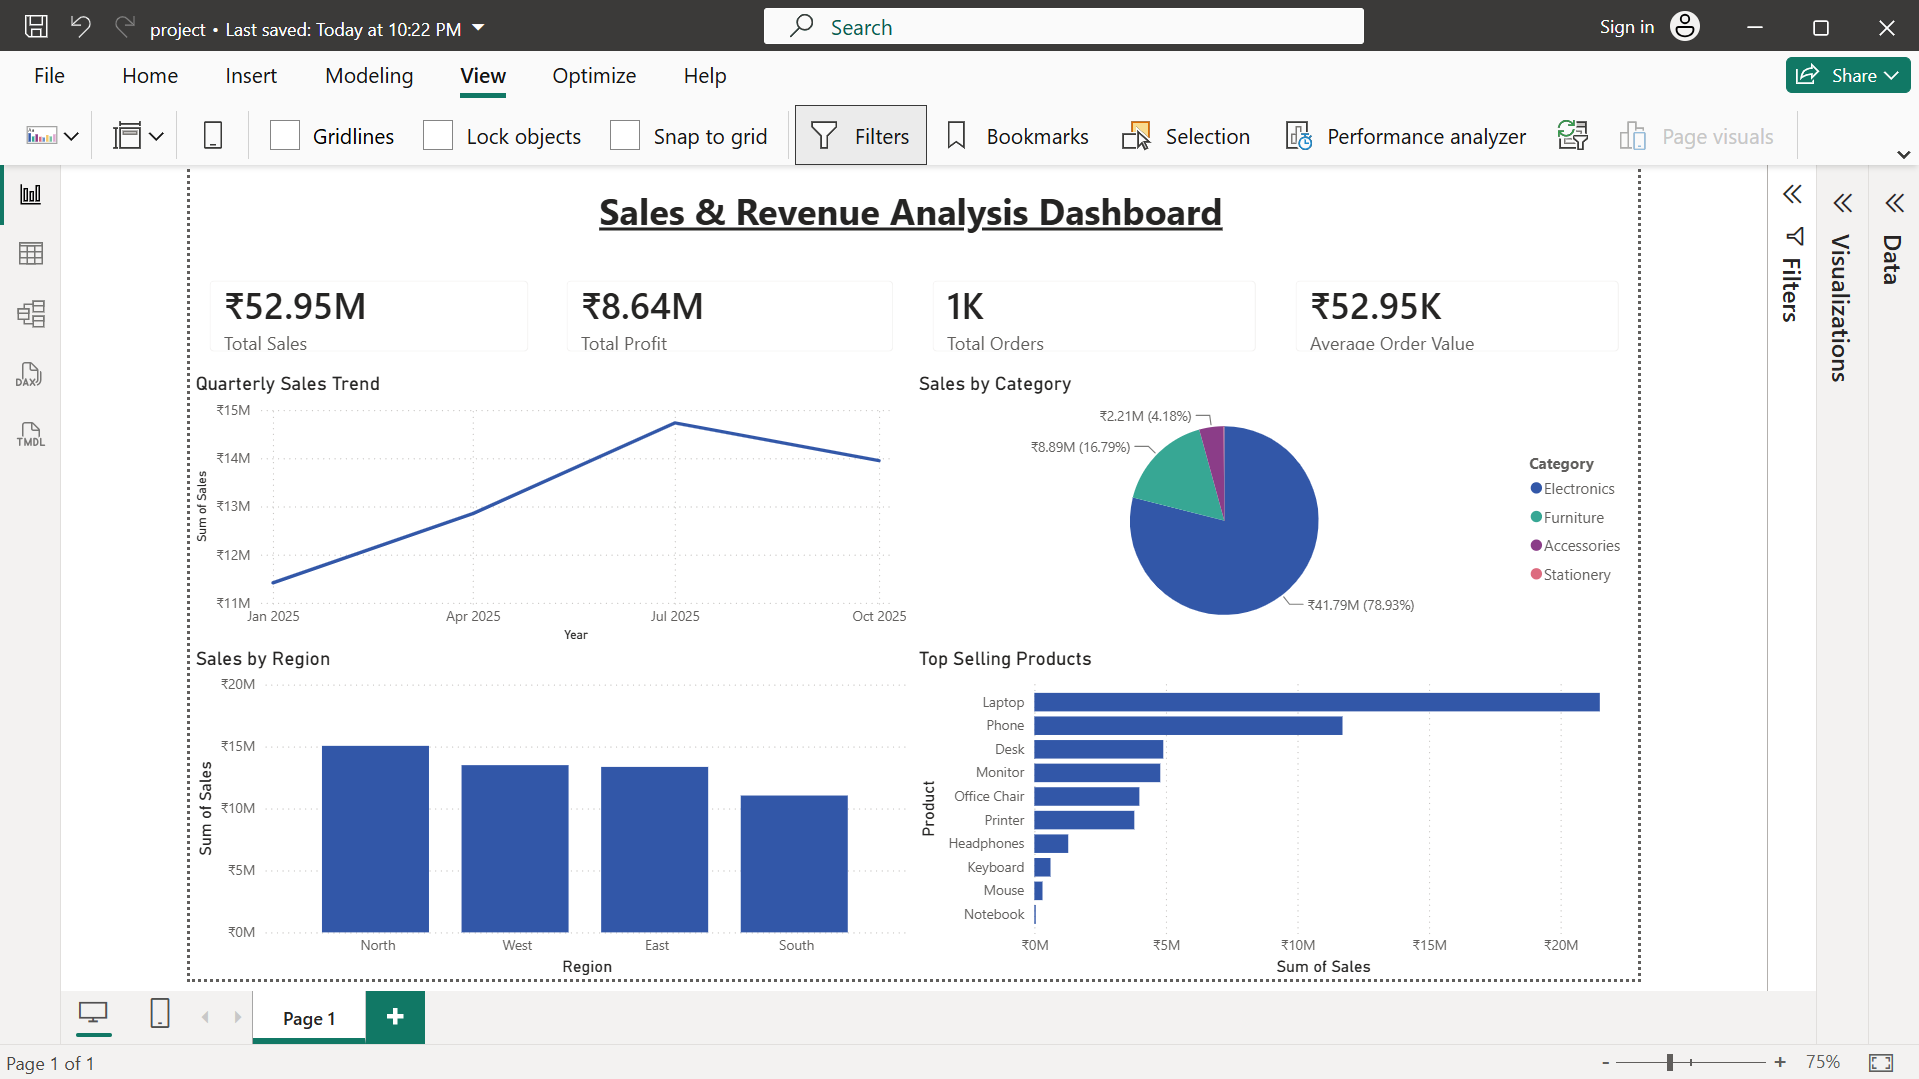

What the dashboard file says about the page in this screenshot:
{"tool":"powerbi","page":{"name":"Page 1","canvas":[1280,720],"ordinal":0},"visuals":[{"type":"cardVisual","fields":{"Data":["Sum(SalesData.Sales)"]},"box":[0,84.7,316.2,97.9],"z":0},{"type":"cardVisual","fields":{"Data":["Sum(SalesData.Profit)"]},"box":[316.2,84.7,323.8,97.9],"z":1000},{"type":"cardVisual","fields":{"Data":["CountNonNull(SalesData.Order ID)"]},"box":[640,84.7,320,97.9],"z":2000},{"type":"cardVisual","fields":{"Data":["SalesData.Average Order Value"]},"box":[960,84.7,320,97.9],"z":3000},{"type":"lineChart","title":"Quarterly Sales Trend","fields":{"Y":["Sum(SalesData.Sales)"],"Category":["SalesData.Order Date.Variation.Date Hierarchy.Year","SalesData.Order Date.Variation.Date Hierarchy.Quarter","SalesData.Order Date.Variation.Date Hierarchy.Month","SalesData.Order Date.Variation.Date Hierarchy.Day"]},"box":[0,182.6,638.1,242.8],"z":4000},{"type":"clusteredColumnChart","title":"Sales by Region","fields":{"Category":["SalesData.Region"],"Y":["Sum(SalesData.Sales)"]},"box":[0,425.4,640,295.5],"z":5000},{"type":"pieChart","title":"Sales by Category","fields":{"Category":["SalesData.Category"],"Y":["Sum(SalesData.Sales)"]},"box":[640,182.6,640,242.8],"z":6000},{"type":"clusteredBarChart","title":"Top Selling Products","fields":{"Category":["SalesData.Product"],"Y":["Sum(SalesData.Sales)"]},"box":[640,425.4,640,295.5],"z":7000},{"type":"textbox","box":[316.2,13.2,643.8,71.5],"z":8000}]}

Visuals, with their boxes on the page's 1280x720 design canvas (x1, y1, x2, y2). These are canvas units, not pixel positions in the 1919x1079 screenshot, which may show the page scaled, cropped or inside an application window:
cardVisual - Sum(SalesData.Sales): box=[0, 85, 316, 183]
cardVisual - Sum(SalesData.Profit): box=[316, 85, 640, 183]
cardVisual - CountNonNull(SalesData.Order ID): box=[640, 85, 960, 183]
cardVisual - SalesData.Average Order Value: box=[960, 85, 1280, 183]
"Quarterly Sales Trend" lineChart: box=[0, 183, 638, 425]
"Sales by Region" clusteredColumnChart: box=[0, 425, 640, 721]
"Sales by Category" pieChart: box=[640, 183, 1280, 425]
"Top Selling Products" clusteredBarChart: box=[640, 425, 1280, 721]
textbox: box=[316, 13, 960, 85]
